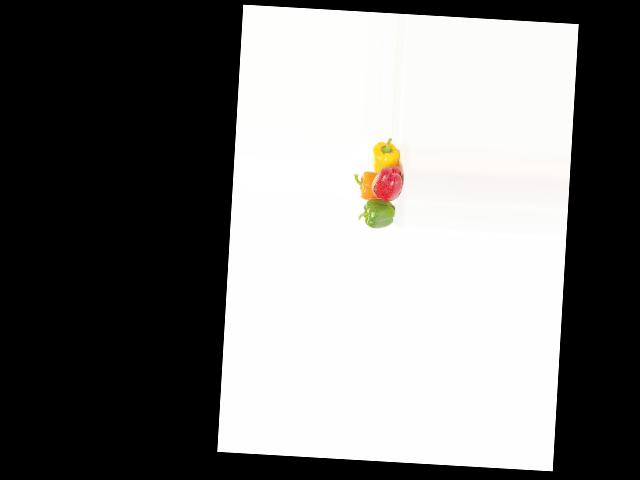bell_pepper: (359, 196, 400, 229)
